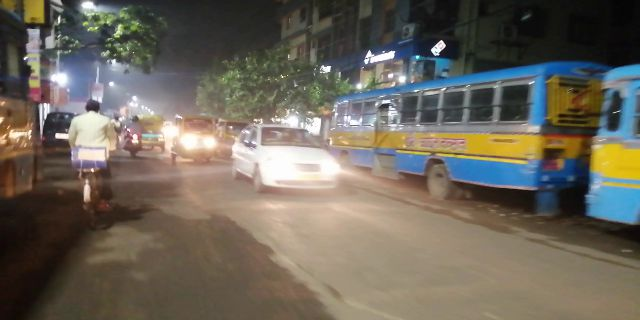Autorickshaw: (168, 110, 224, 160)
Bus: (331, 59, 597, 205)
Car: (237, 117, 345, 195)
Cycle: (73, 97, 115, 226)
